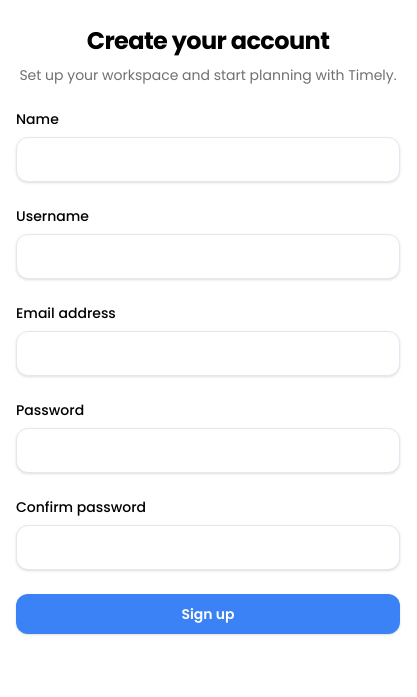
Test case: SignupForm › prevents submission when passwords do not match
In the field labelled "Username": x=208, y=256 [16,234,400,278], type "alice"
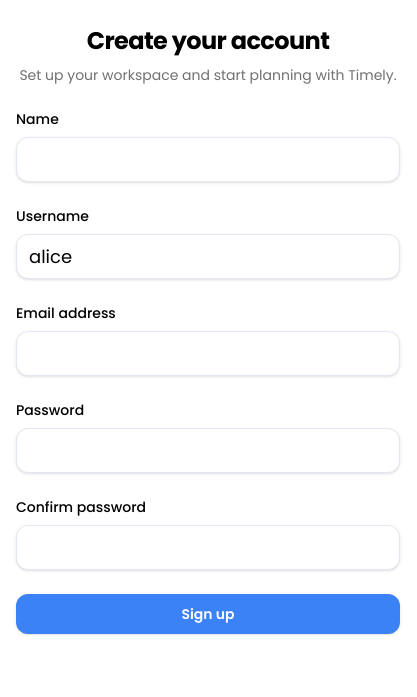
In the field labelled "Name": x=208, y=159 [16,136,400,182], type "Alice Example"
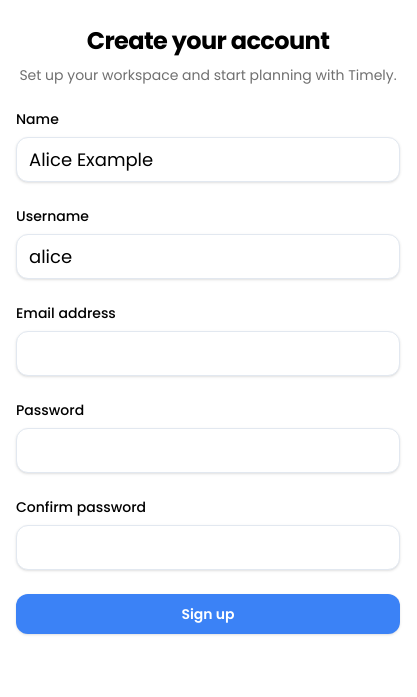
In the field labelled "Email address": x=208, y=353 [16,330,400,376], type "alice@example.com"
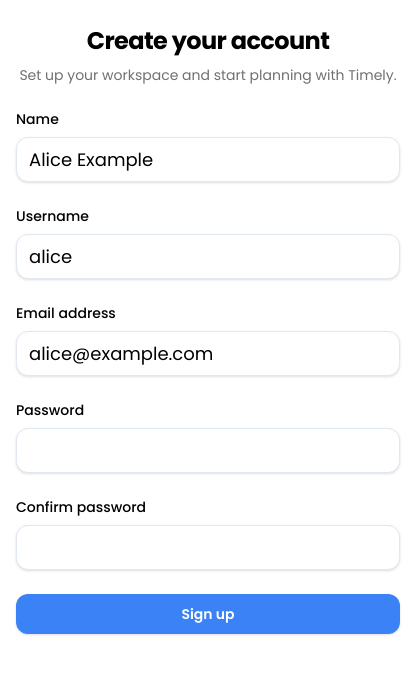
In the password field labelled "Password": x=208, y=450 [16,428,400,472], type "secret"
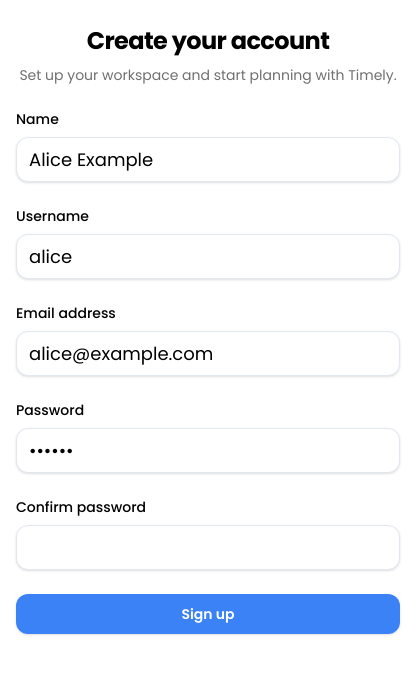
In the password field labelled "Confirm password": x=208, y=547 [16,524,400,570], type "different"
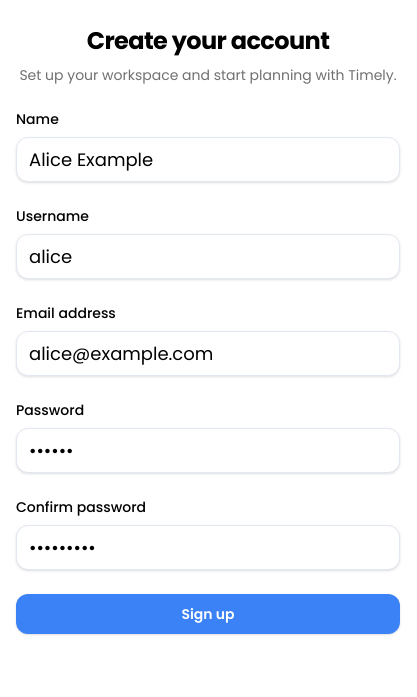
Click the button "Sign up": x=208, y=614 [16,594,400,634]
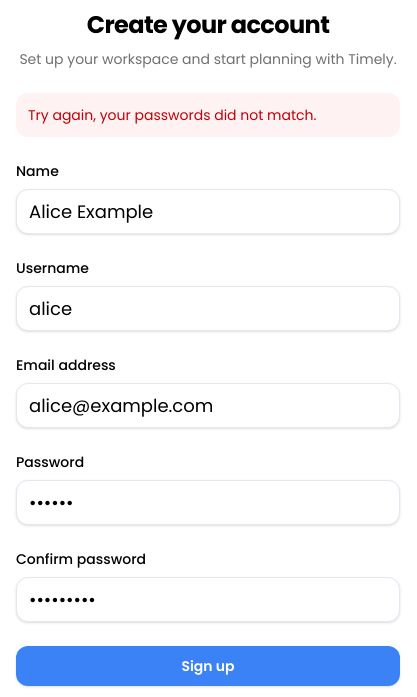
Now the text "Try again, your passwords did not match." is shown, box [16,93,400,137]
